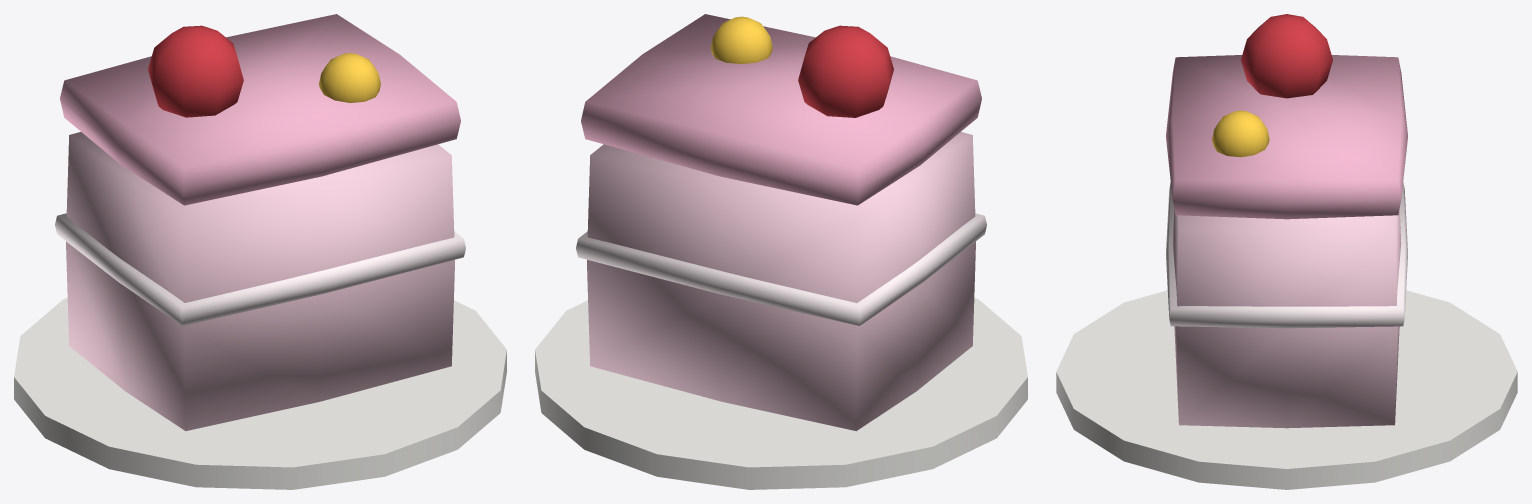
File: cake_slice.glb
3 renders of one model, left to right at view 1: azimuth 30°, elevation 25°; view 2: azimuth 150°, elevation 25°; view 3: azimuth 270°, elevation 25°, orthographic. The views are drawn at different scales.
Parts seen in each view (by area): view 1: root; view 2: root; view 3: root.
Part boxes in pixels (<box>): root: <box>14,14,506,489</box>; root: <box>535,14,1027,489</box>; root: <box>1056,14,1517,489</box>.
Bounding box in the file's own units: 0.4 × 0.33 × 0.4.
